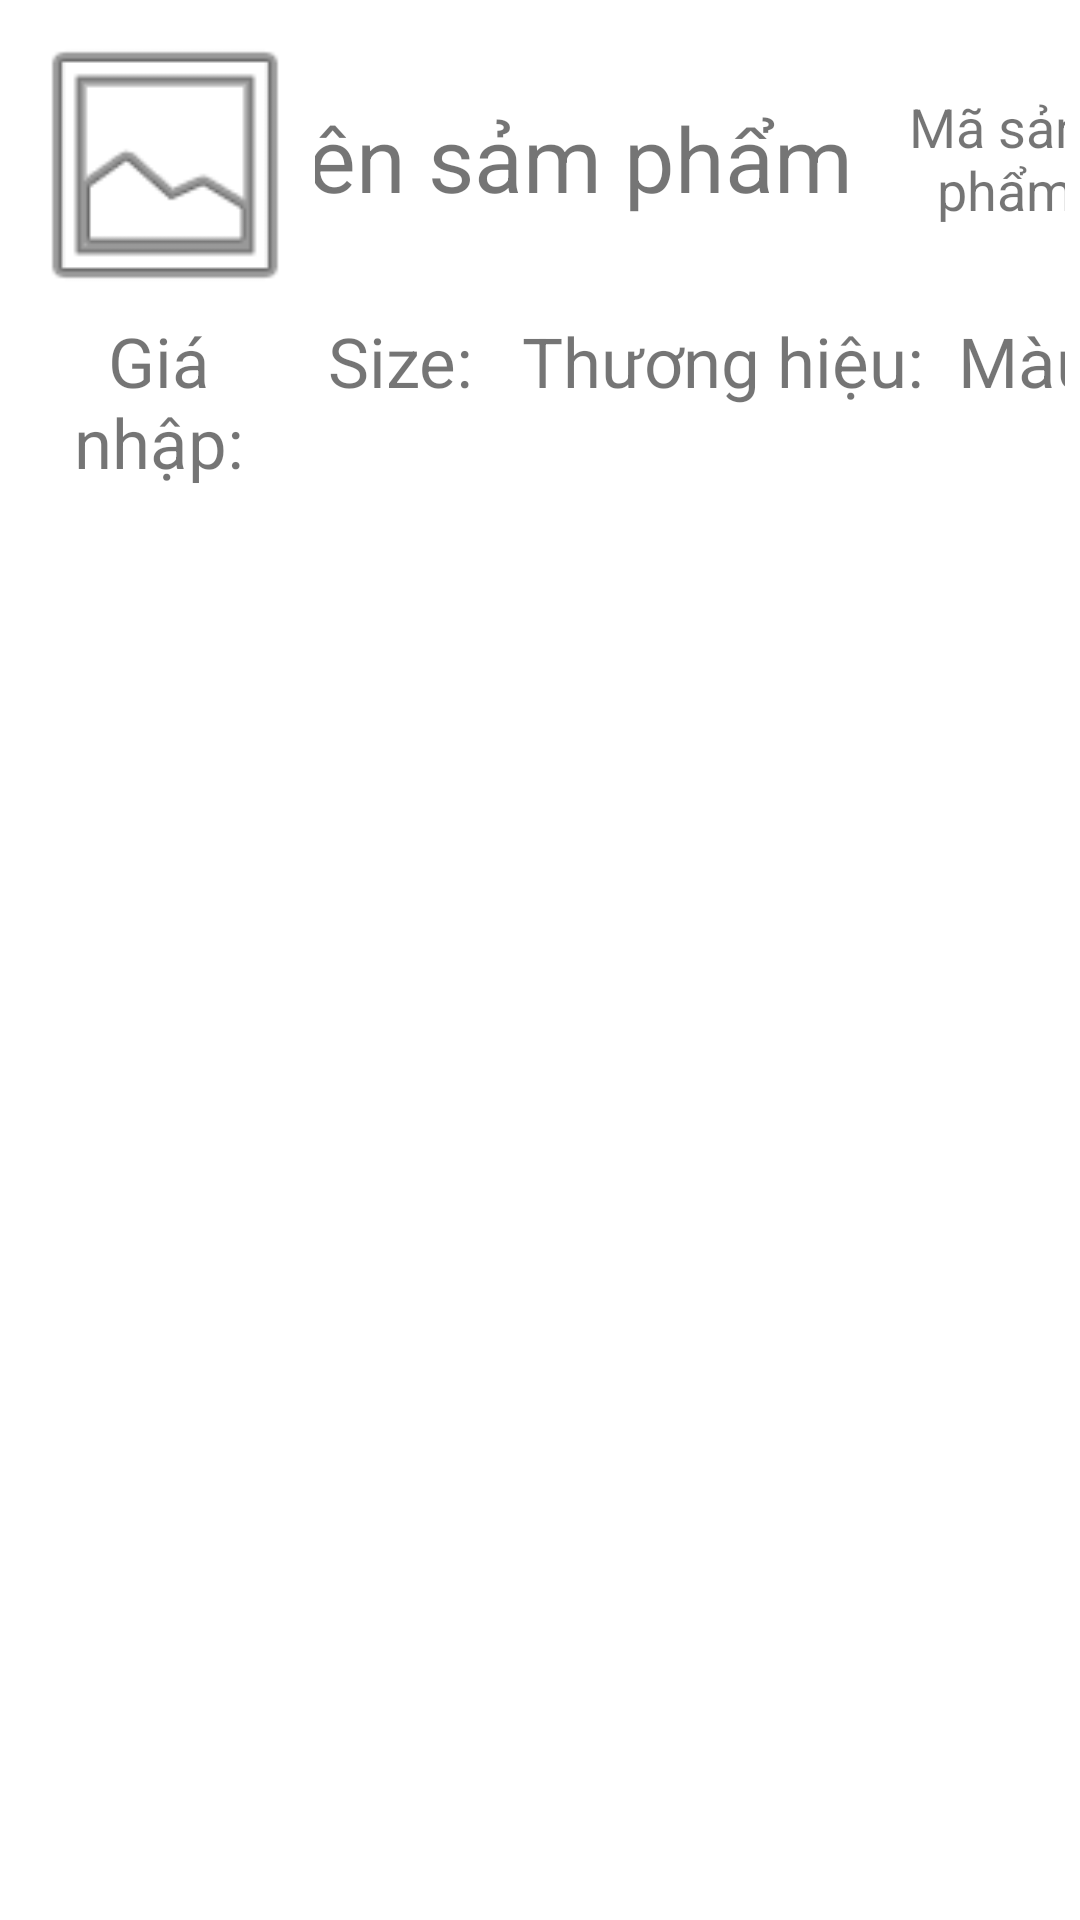

Icons on this 1080 x 1920 Android screen, each with the point to tap as (x,y):
gallery: (165,165)
